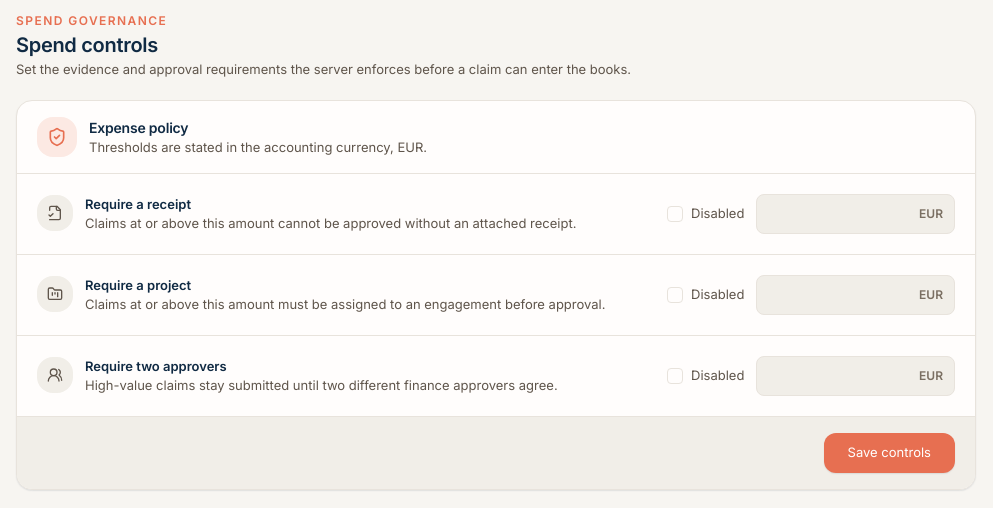
Test: saves policy thresholds as integer cents through the Finance API
The image size is (993, 508).
Click the checkbox labelled "Disabled" in the row of "Require a receipt": (706, 214) [667,204,744,224]
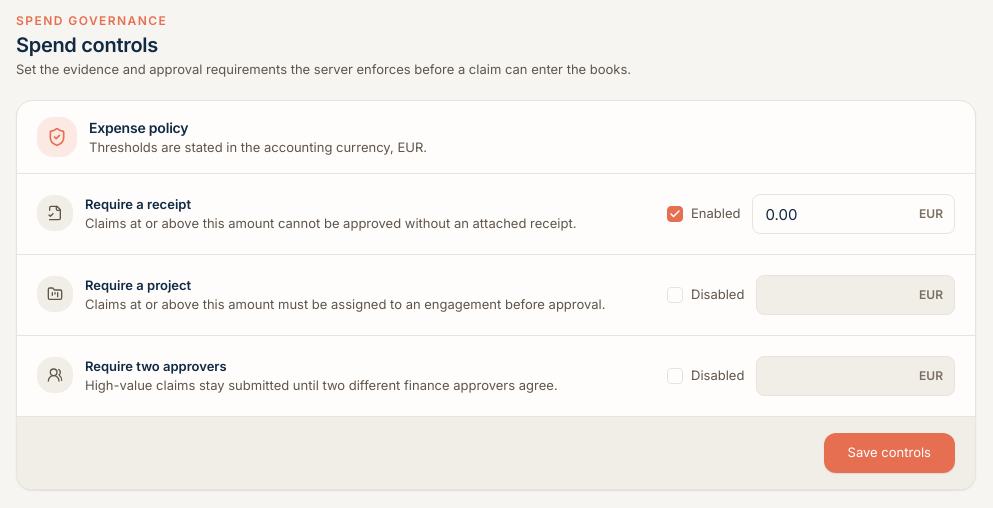
Replace the text in the field named "Require a receipt" with "100.00": (854, 214) [752,194,955,234]
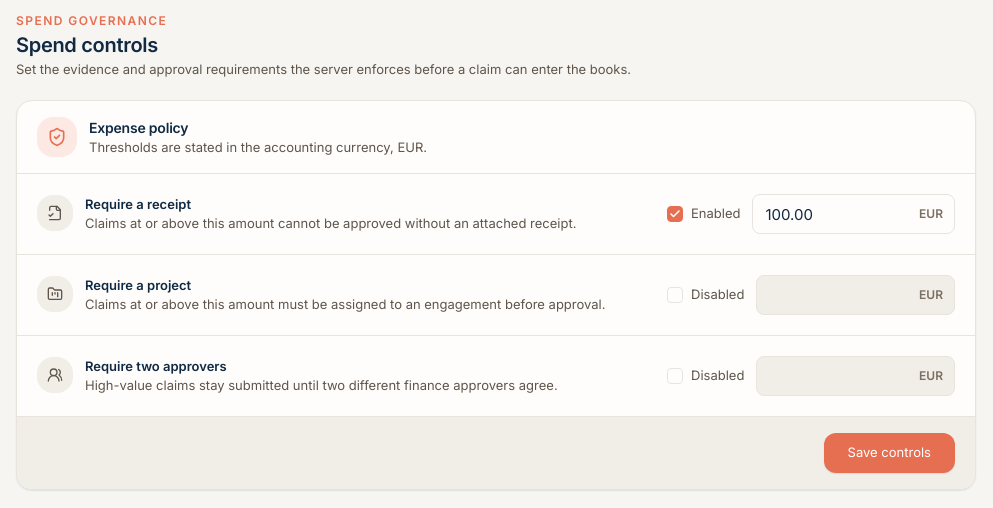
Click the button "Save controls": (889, 453) [824,433,955,473]
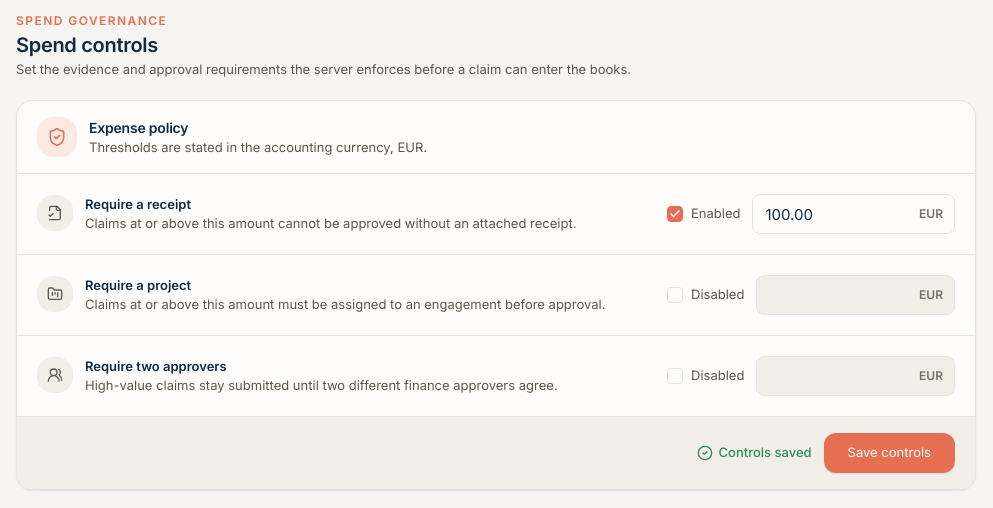
Expected: the text "Controls saved" is shown, [696,443,812,463]
